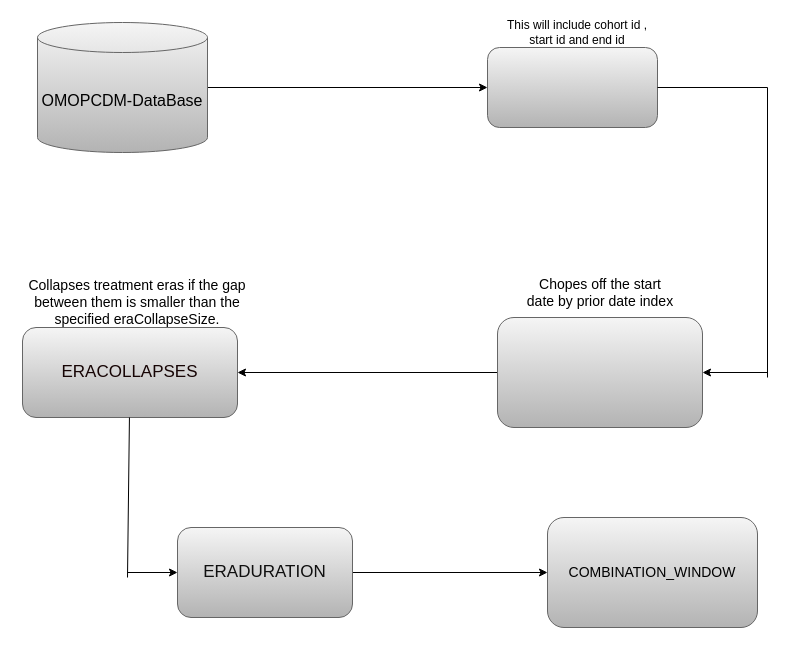
This 793x645 diagram has some shape labels left out. The box of each missing label's shape, as (x1, y1, x2, y2) in pixels:
Cohort Information: (486, 46, 658, 128)
PERIOD_PRIOR_TO_INDEX: (496, 316, 702, 428)
